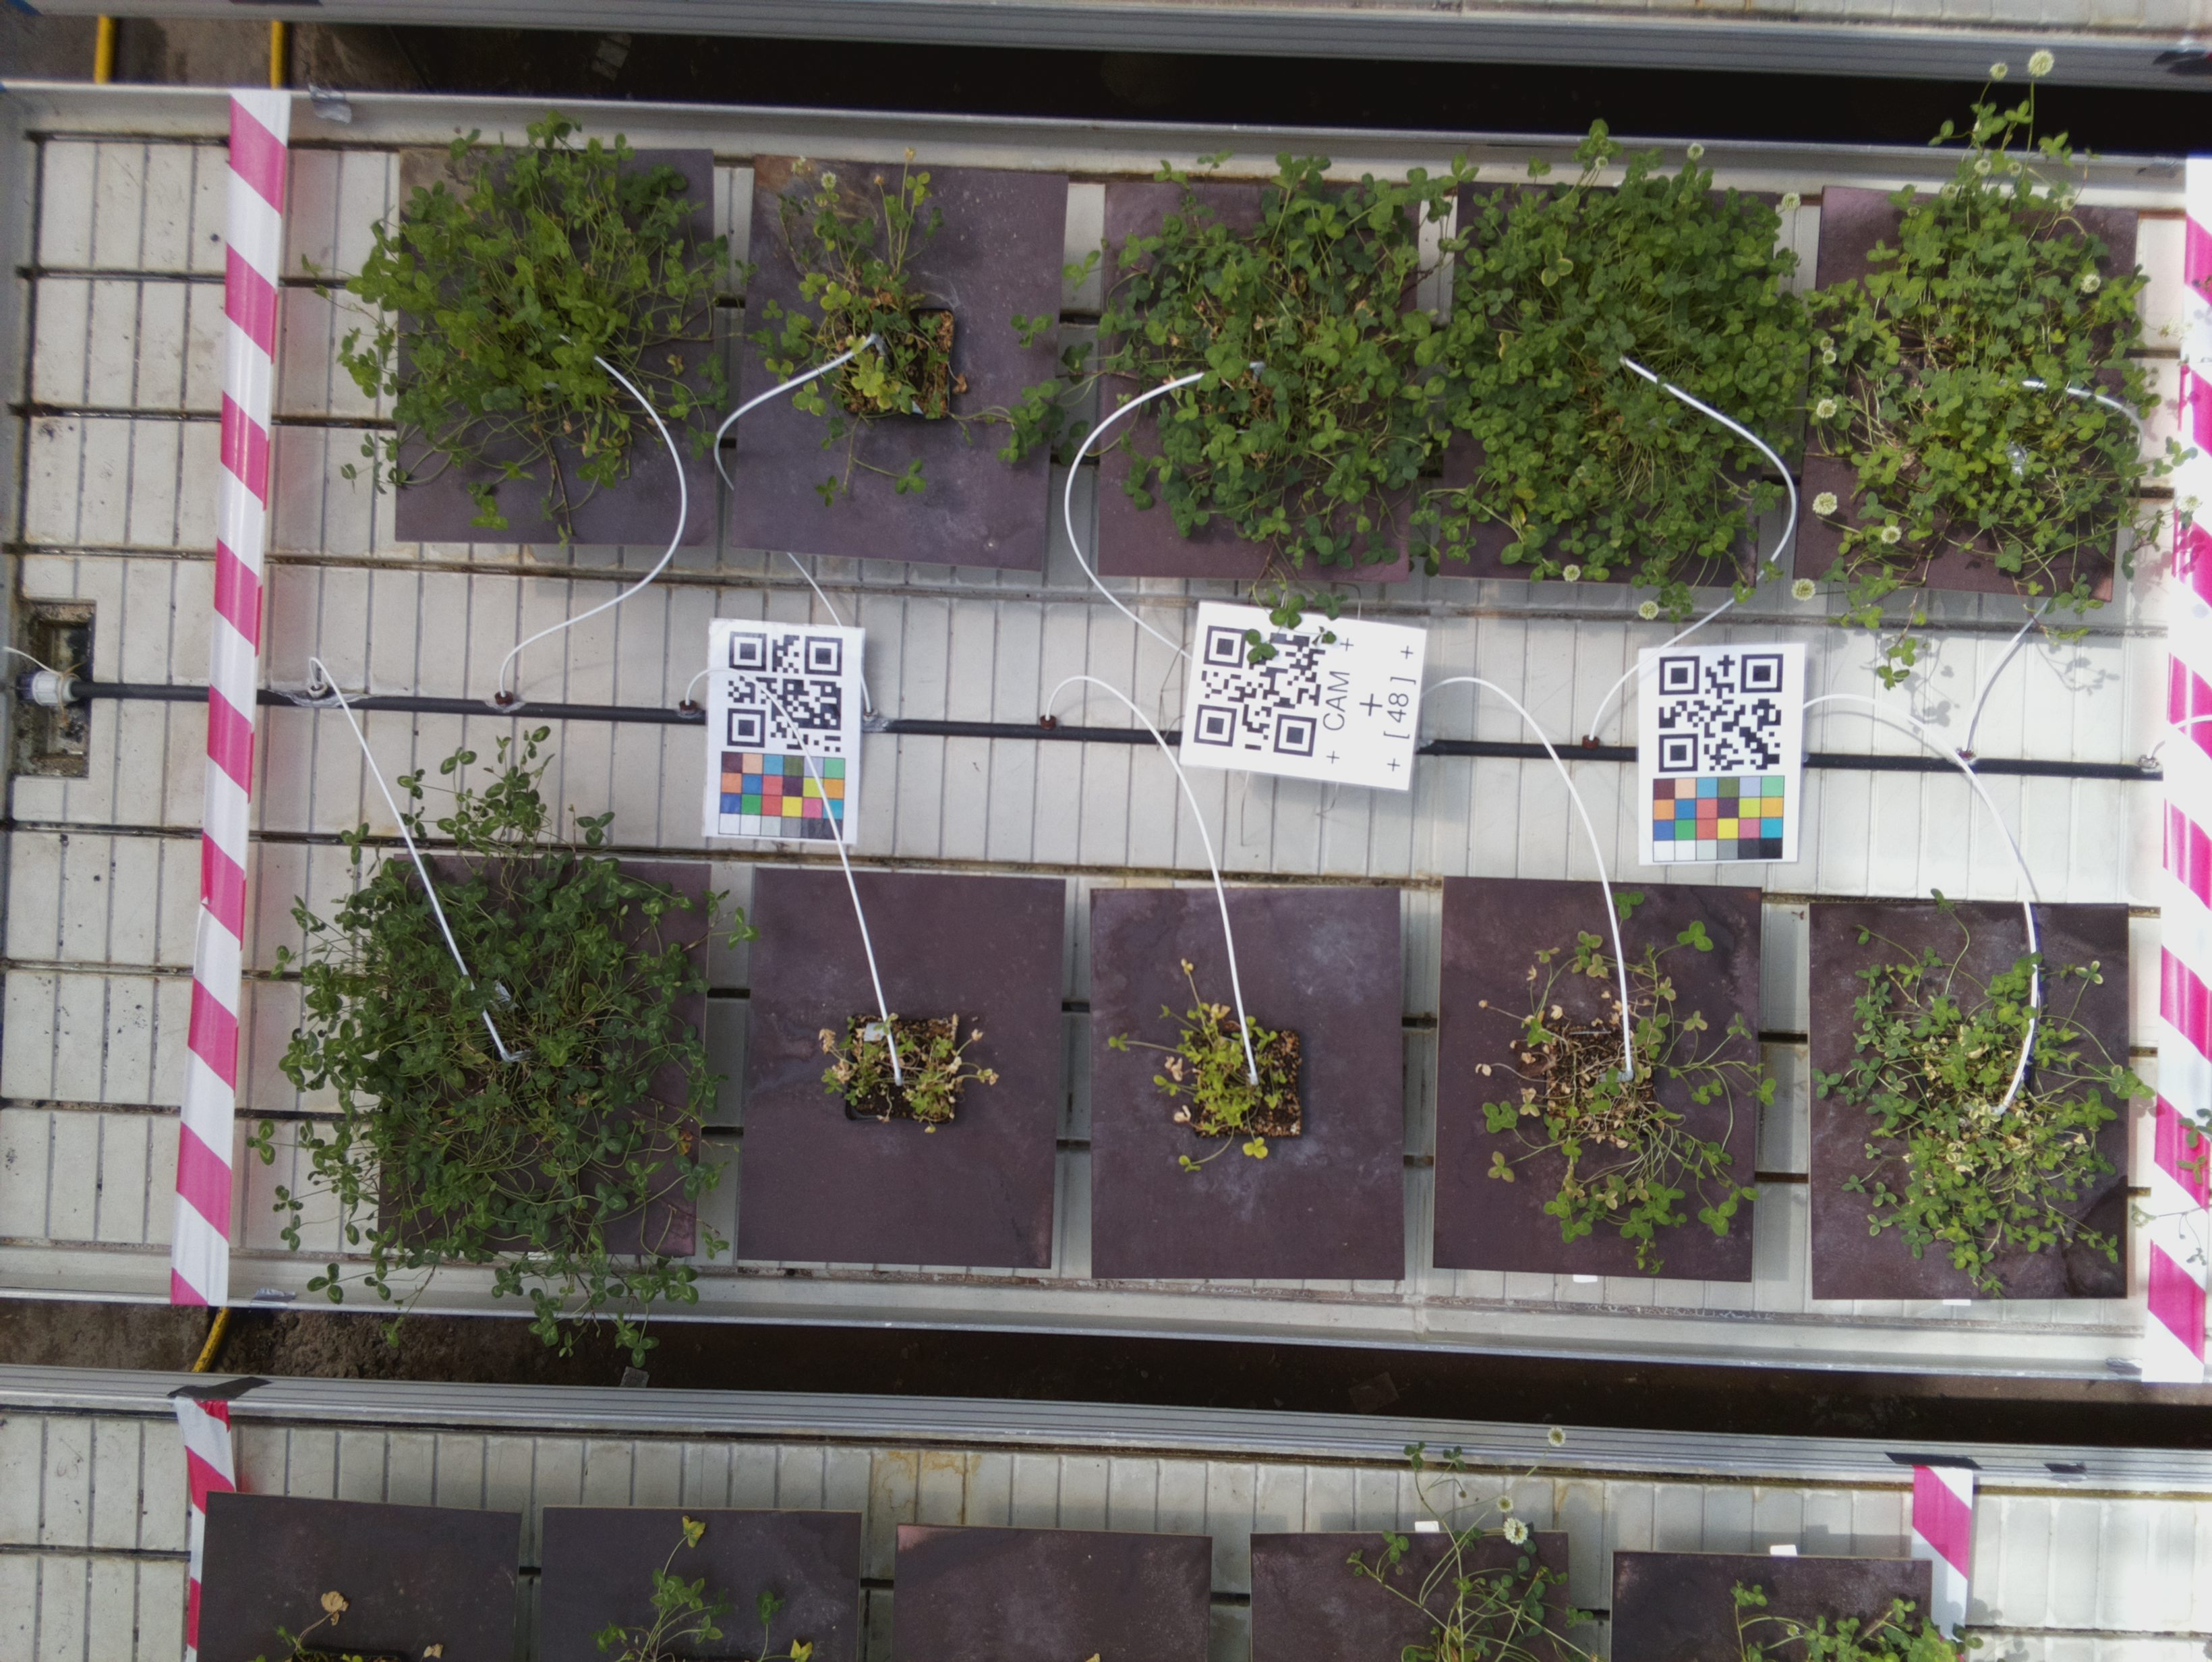POT: (1446, 178, 1767, 595), (737, 154, 1056, 573), (1793, 204, 2154, 573), (1810, 903, 2135, 1306), (400, 143, 721, 546), (1447, 880, 1760, 1290), (1103, 171, 1411, 585), (384, 848, 693, 1259), (751, 868, 1056, 1271), (1093, 889, 1400, 1280)
QRCODE: (1180, 601, 1421, 789)
QRCOLOR: (1632, 646, 1803, 871), (705, 618, 864, 848)
